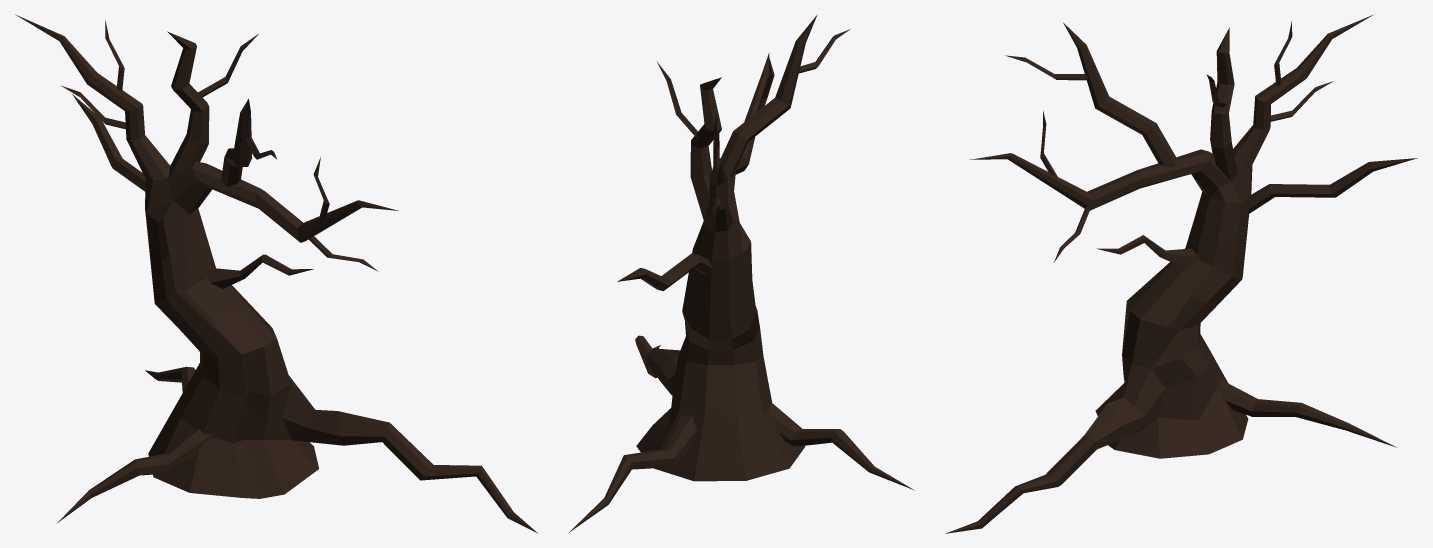
Rendered from tree-scary-dead.fbx.
3 renders of one model, left to right at view 1: azimuth 30°, elevation 25°; view 2: azimuth 150°, elevation 25°; view 3: azimuth 270°, elevation 25°, orthographic. The views are drawn at different scales.
Visible parts, largest first — view 1: tree_scary_dead; view 2: tree_scary_dead; view 3: tree_scary_dead.
Boxes of the visible parts, bbox=[...] form: tree_scary_dead: bbox=[15, 14, 537, 533]; tree_scary_dead: bbox=[569, 14, 914, 532]; tree_scary_dead: bbox=[945, 14, 1417, 533].
Bounding box in the file's own units: 546 × 621 × 650.
